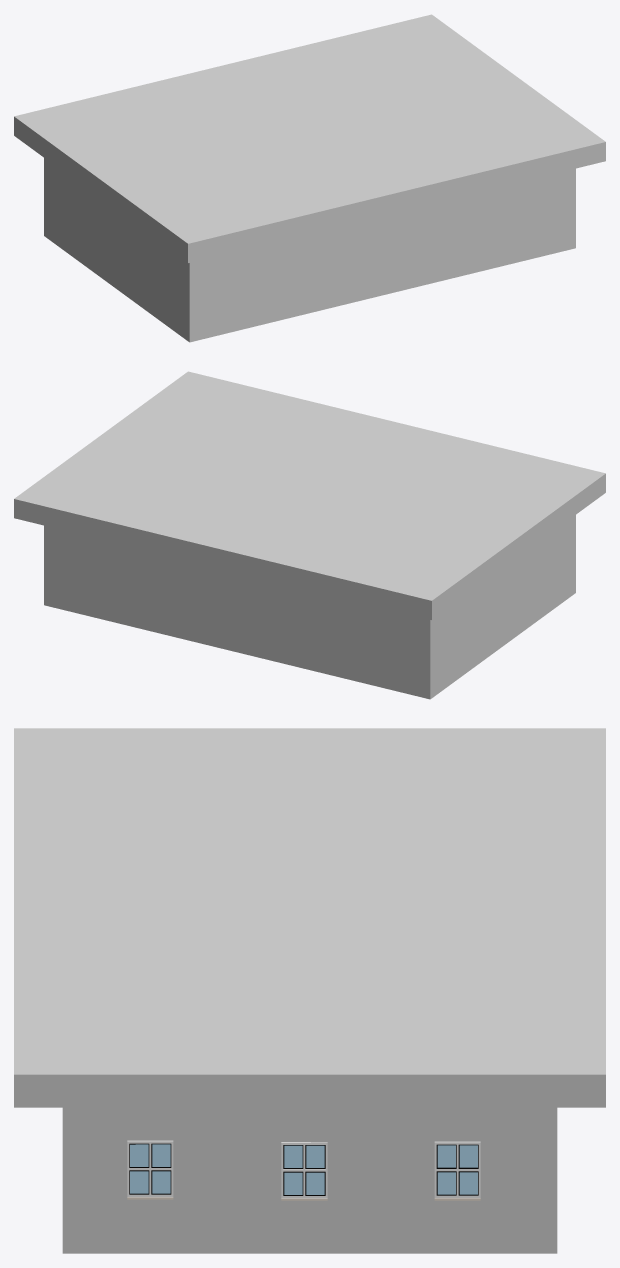
The model's file is ExportedBlenderFBXFile.fbx.
3 views of the same model, one above another, from view 1: azimuth 30°, elevation 25°; view 2: azimuth 150°, elevation 25°; view 3: azimuth 270°, elevation 25° (orthographic). The views are drawn at different scales.
Parts seen in each view (by area): view 1: Cube_001; view 2: Cube_001; view 3: Cube_001, Window_001, Window_008, Window_000.
Part boxes in pixels (x1,y1,x2,y2): Cube_001: (14, 14, 605, 342); Cube_001: (14, 371, 605, 699); Cube_001: (14, 728, 605, 1253); Window_001: (434, 1141, 480, 1200); Window_008: (127, 1140, 173, 1199); Window_000: (281, 1142, 327, 1200).
Size of the model in its own units: 32.54 by 8.41 by 23.49.
